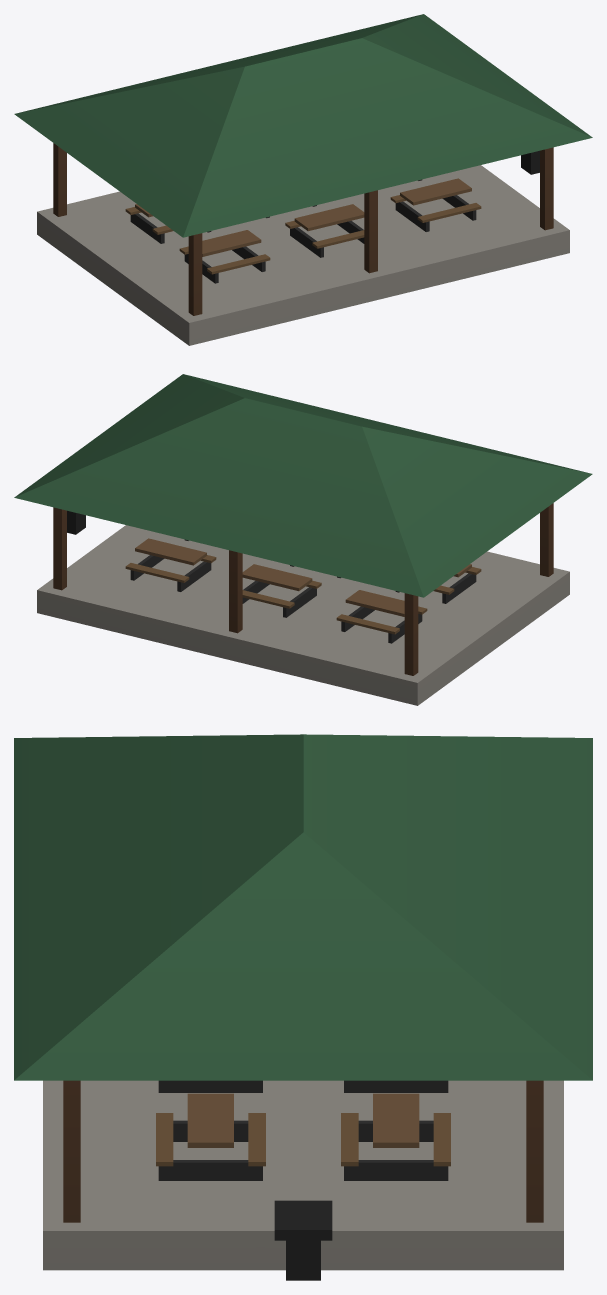
Rendered from shelter.glb.
The picture shows the model from 3 angles, top to bottom: view 1: azimuth 30°, elevation 25°; view 2: azimuth 150°, elevation 25°; view 3: azimuth 270°, elevation 25°; orthographic projection. The views are drawn at different scales.
Visible parts, largest first — view 1: shelter_lod0; view 2: shelter_lod0; view 3: shelter_lod0.
Part boxes in pixels (x1,y1,x2,y2): shelter_lod0: [14, 14, 592, 345]; shelter_lod0: [14, 374, 592, 705]; shelter_lod0: [14, 734, 592, 1280].
Size of what is drawn, in the model's own units: 15.5 by 6.25 by 10.
